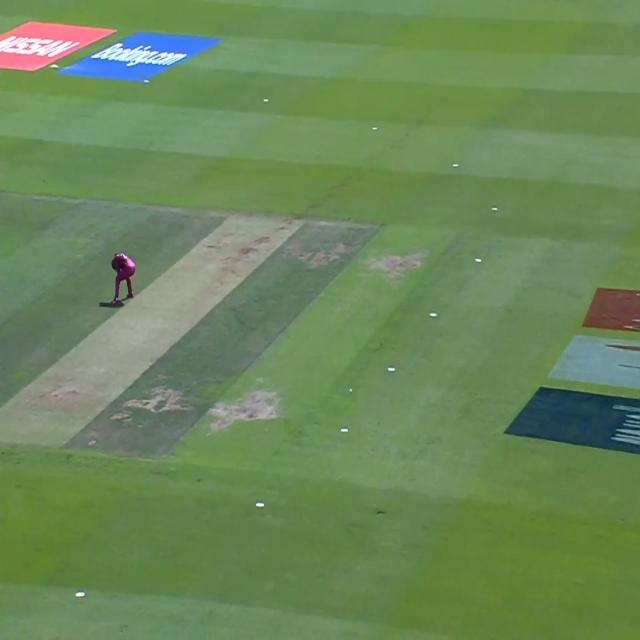ball: (346, 382, 358, 400)
